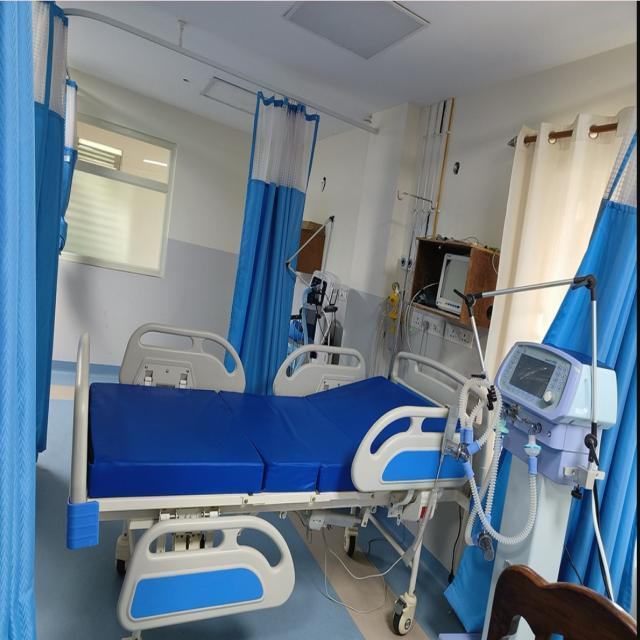Monitor: (489, 316, 597, 545)
bed: (65, 321, 487, 638)
